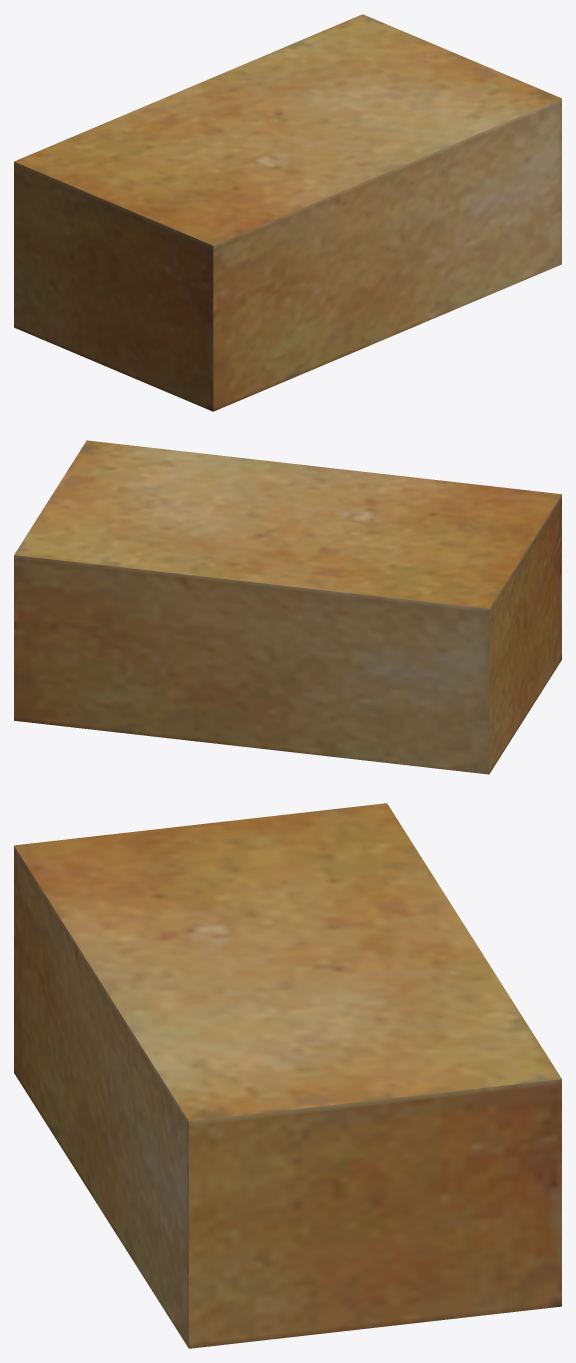
The picture shows the model from 3 angles, top to bottom: view 1: azimuth 30°, elevation 25°; view 2: azimuth 150°, elevation 25°; view 3: azimuth 270°, elevation 25°; orthographic projection. The views are drawn at different scales.
Visible parts, largest first — view 1: Joint_0_Object_0; view 2: Joint_0_Object_0; view 3: Joint_0_Object_0.
Part boxes in pixels (bbox=[...]): Joint_0_Object_0: bbox=[14, 14, 561, 411]; Joint_0_Object_0: bbox=[14, 440, 561, 774]; Joint_0_Object_0: bbox=[14, 803, 561, 1348].
Bounding box in the file's own units: 585 × 195 × 426.
Materials: 1 (1 with a texture image).
